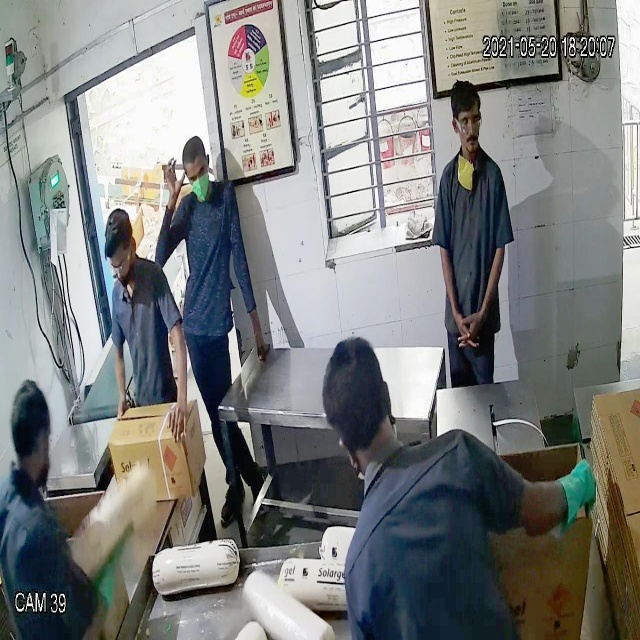Gafas: (451, 112, 486, 137), (106, 250, 133, 276)
